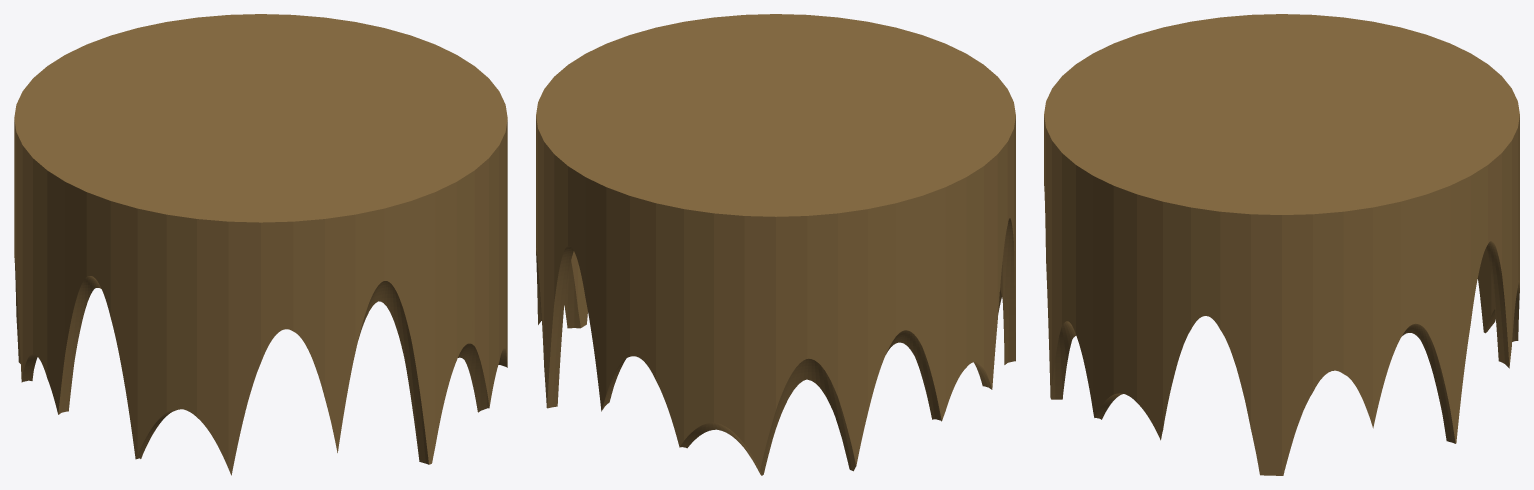
File: ube.glb
The picture shows the model from 3 angles, left to right: view 1: azimuth 30°, elevation 25°; view 2: azimuth 150°, elevation 25°; view 3: azimuth 270°, elevation 25°; orthographic projection. The views are drawn at different scales.
Visible parts, largest first — view 1: Mesh_Mesh_head_geo.001_lambert2SG.001; view 2: Mesh_Mesh_head_geo.001_lambert2SG.001; view 3: Mesh_Mesh_head_geo.001_lambert2SG.001.
Boxes of the visible parts, box(x1,y1,x2,y2) form: Mesh_Mesh_head_geo.001_lambert2SG.001: box(14, 14, 507, 475); Mesh_Mesh_head_geo.001_lambert2SG.001: box(536, 14, 1015, 475); Mesh_Mesh_head_geo.001_lambert2SG.001: box(1044, 14, 1519, 475).
Size of the model in its own units: 0.0215 by 0.013 by 0.0215.
